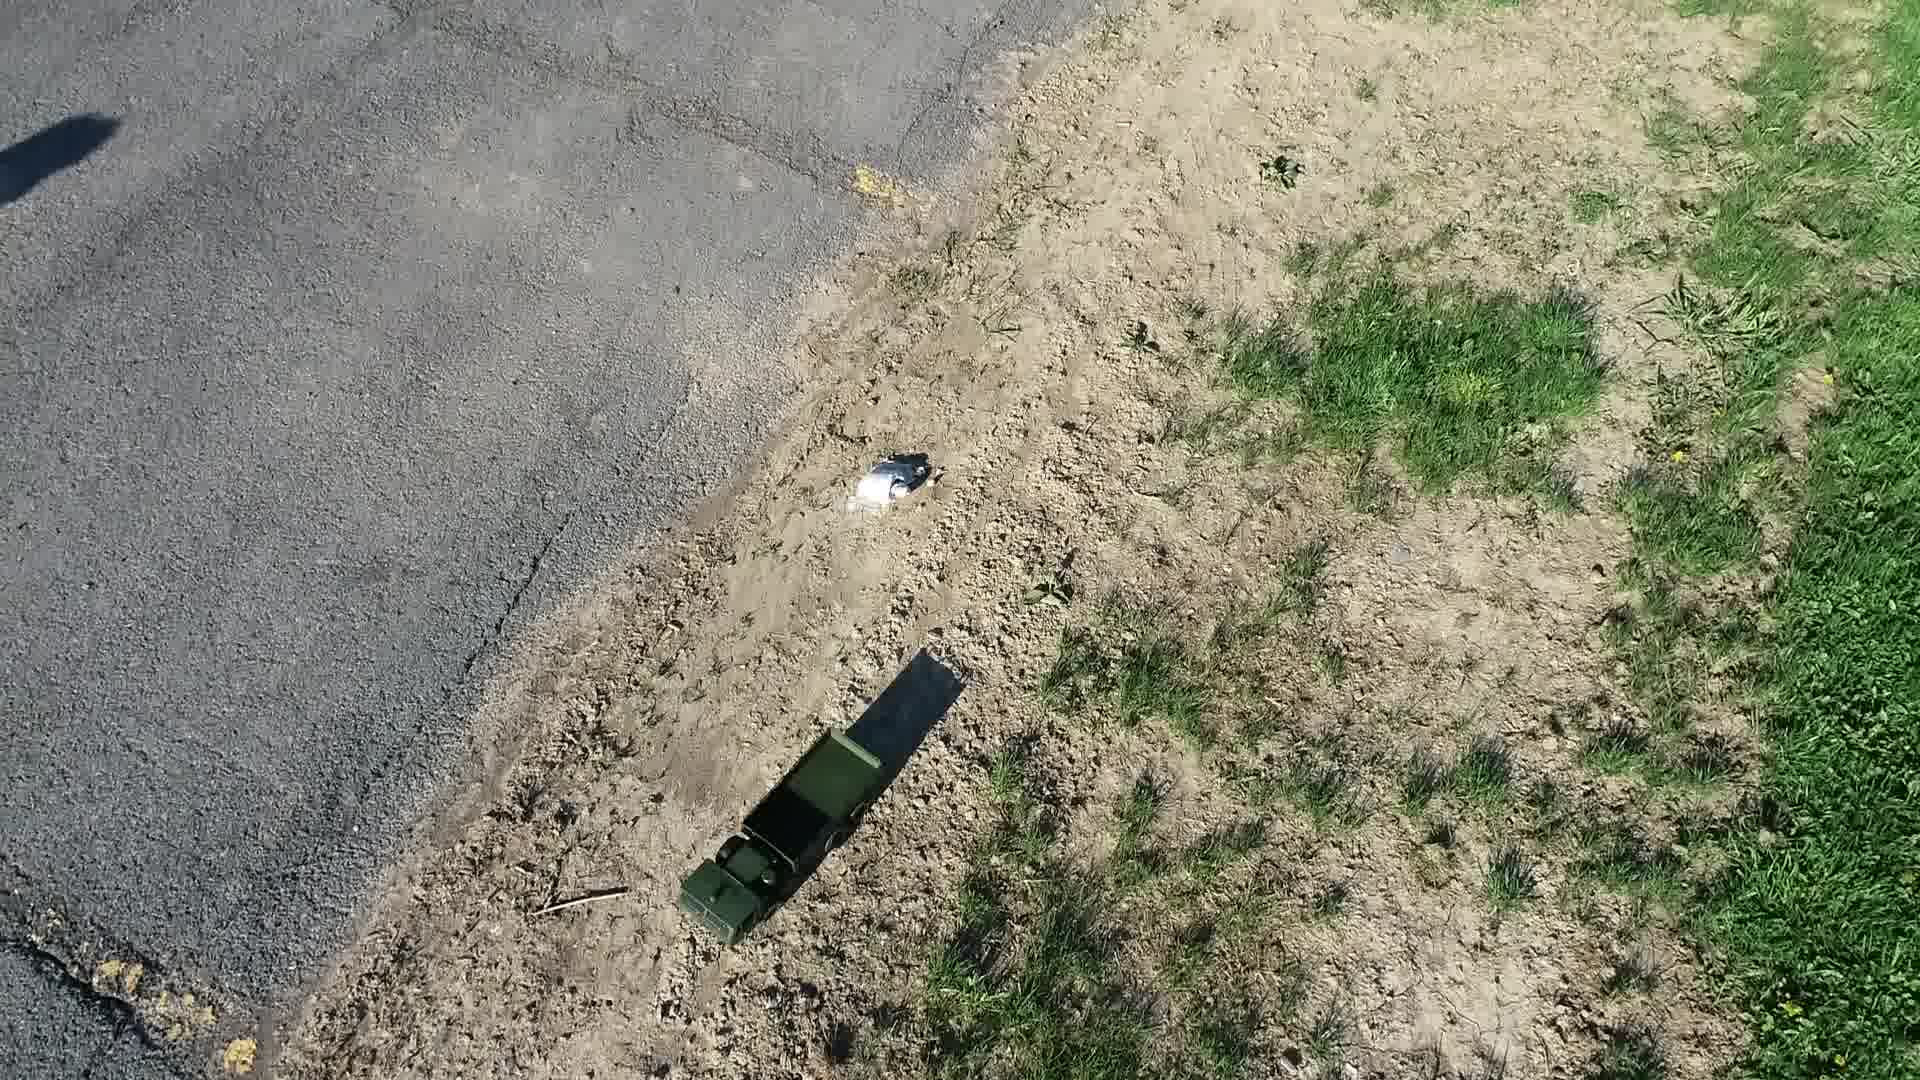transporter9: (661, 716, 895, 955)
